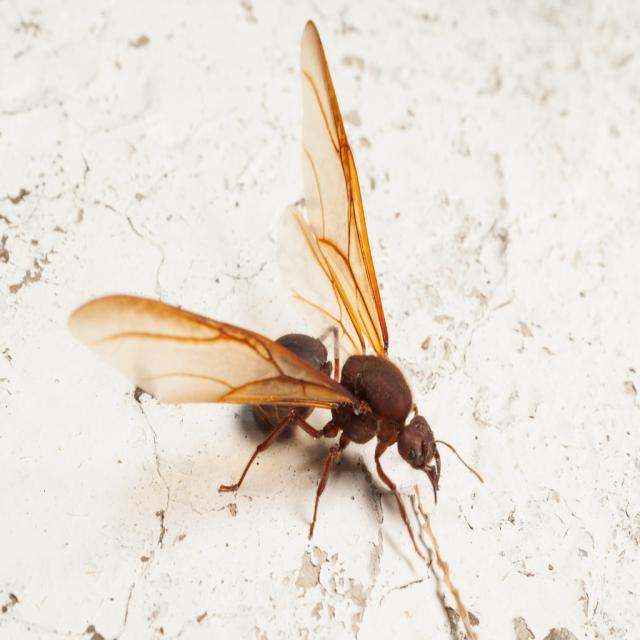Alive-Female-Alate: (66, 18, 484, 563)
